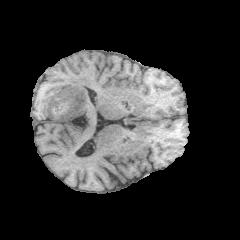glioma: (39, 77, 94, 121)
